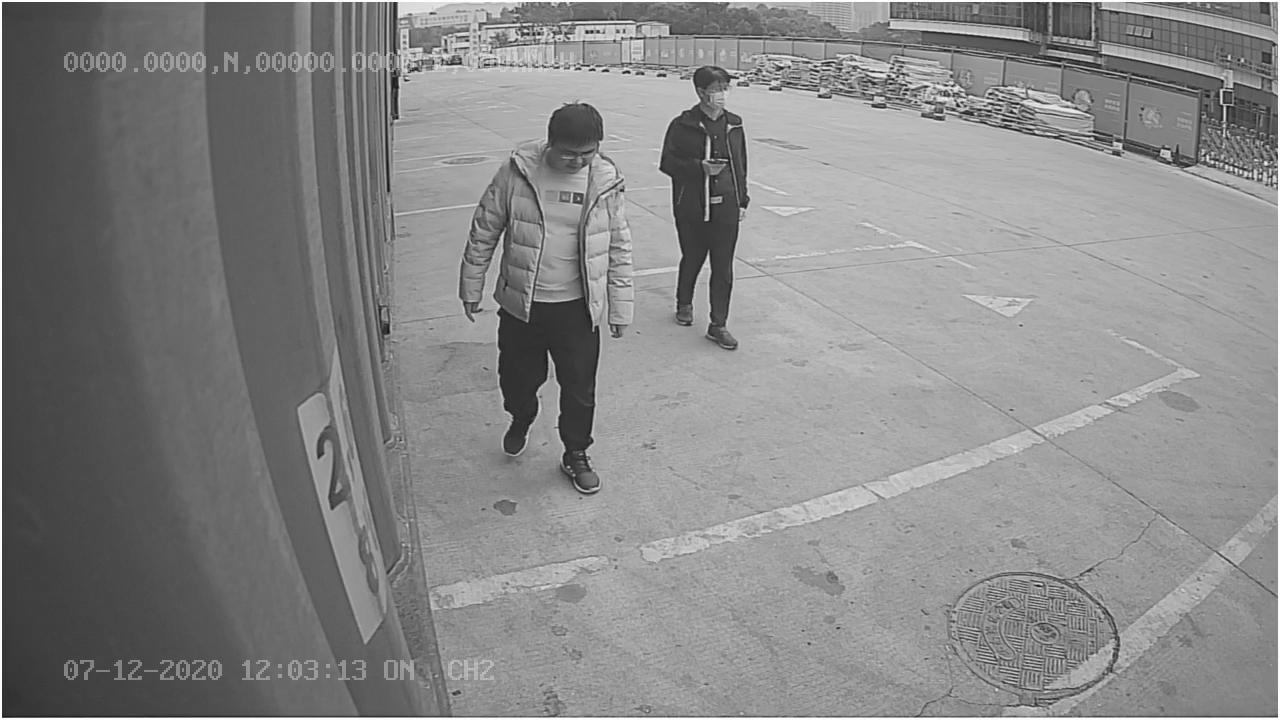person: (455, 101, 638, 494), (653, 57, 753, 349)
